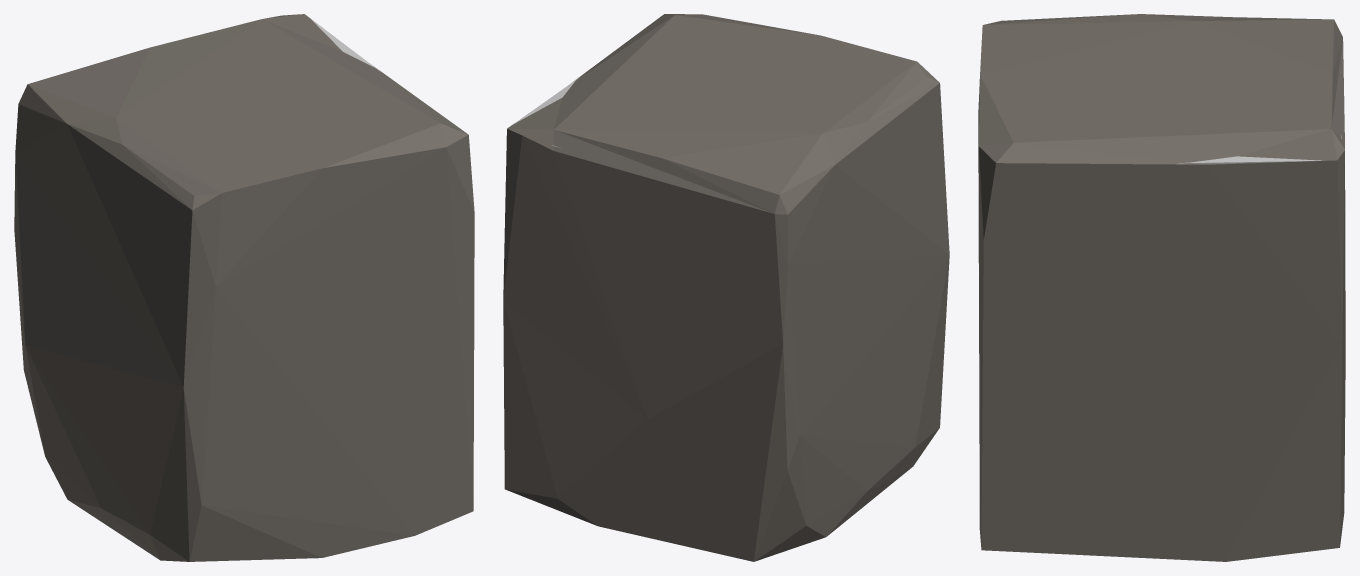
File: SM_Env_Rock_Square_02.fbx
3 views of the same model, side by side, from view 1: azimuth 30°, elevation 25°; view 2: azimuth 150°, elevation 25°; view 3: azimuth 270°, elevation 25° (orthographic). The views are drawn at different scales.
Parts seen in each view (by area): view 1: SM_Env_Rock_Square_02; view 2: SM_Env_Rock_Square_02; view 3: SM_Env_Rock_Square_02, SM_Env_Rock_Square_02_ConvexHulls.
Part boxes in pixels (x1=…): SM_Env_Rock_Square_02: x1=14, y1=14, x2=474, y2=561; SM_Env_Rock_Square_02: x1=503, y1=14, x2=949, y2=561; SM_Env_Rock_Square_02: x1=978, y1=14, x2=1345, y2=561; SM_Env_Rock_Square_02_ConvexHulls: x1=1178, y1=135, x2=1341, y2=163.
Size of the model in its own units: 686 by 714 by 880.
2 materials, 1 textured.
